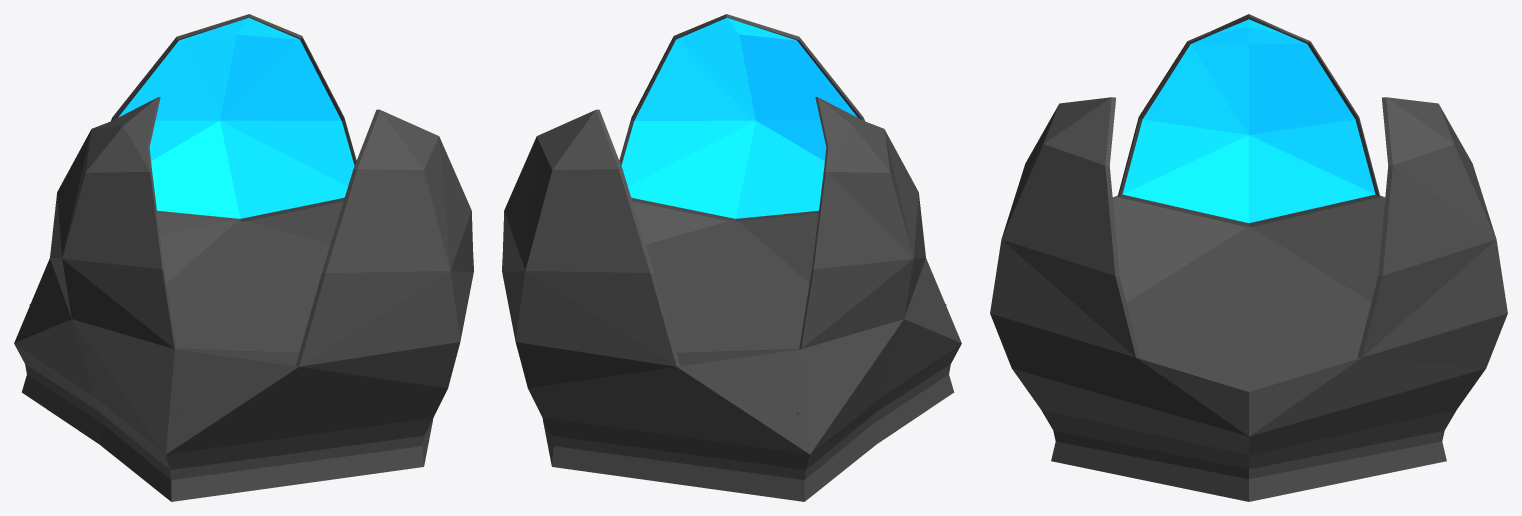
File: missile_tower.fbx
3 views of the same model, side by side, from view 1: azimuth 30°, elevation 25°; view 2: azimuth 150°, elevation 25°; view 3: azimuth 270°, elevation 25° (orthographic). The views are drawn at different scales.
Visible parts, largest first — view 1: base.003; view 2: base.003; view 3: base.003.
Part boxes in pixels (box(x1,y1,x2,y2)): base.003: box(14, 14, 473, 501); base.003: box(502, 14, 961, 501); base.003: box(990, 14, 1507, 501).
Size of the model in its own units: 243 by 196 by 253.
